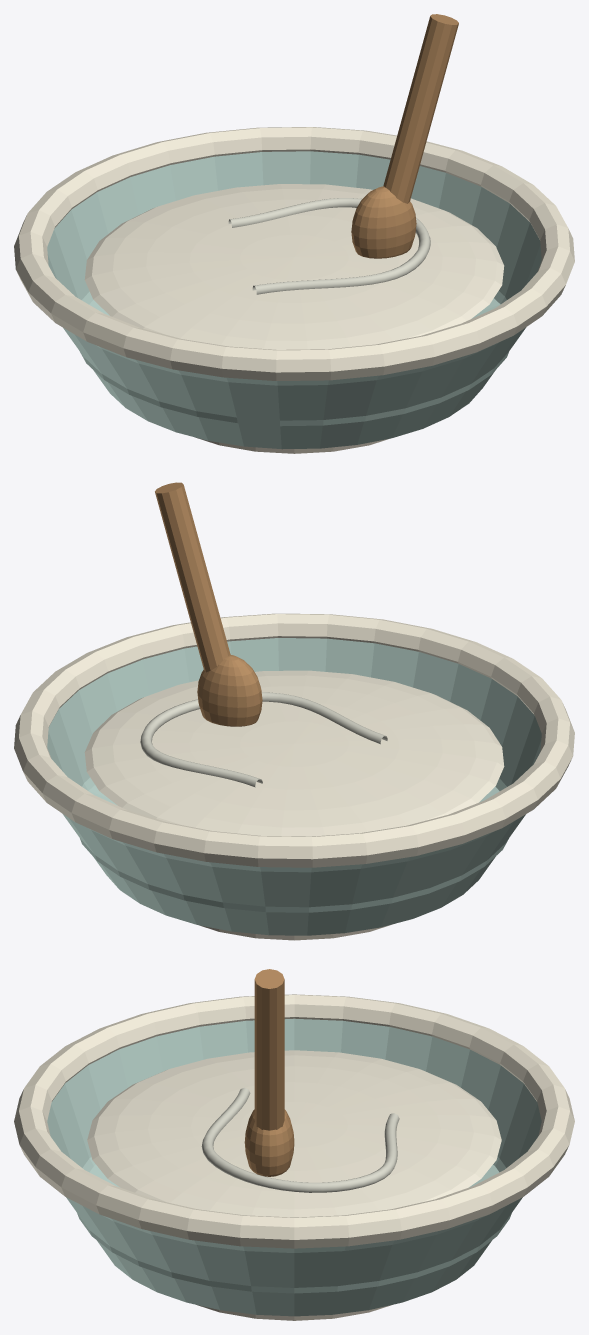
The model's file is rice_batter_bowl.glb.
3 renders of one model, top to bottom at view 1: azimuth 30°, elevation 25°; view 2: azimuth 150°, elevation 25°; view 3: azimuth 270°, elevation 25°, orthographic.
Parts seen in each view (by area): view 1: soft_rice_batter_surface, rice_batter_mix_bowl_hollow_profile, rice_batter_mix_bowl_rolled_lip, bamboo_whisk_handle, whisk_wire_head, batter_mixing_ripple, rice_batter_mix_bowl_foot_ring; view 2: soft_rice_batter_surface, rice_batter_mix_bowl_hollow_profile, rice_batter_mix_bowl_rolled_lip, bamboo_whisk_handle, whisk_wire_head, batter_mixing_ripple, rice_batter_mix_bowl_foot_ring; view 3: soft_rice_batter_surface, rice_batter_mix_bowl_hollow_profile, rice_batter_mix_bowl_rolled_lip, bamboo_whisk_handle, batter_mixing_ripple, whisk_wire_head, rice_batter_mix_bowl_foot_ring.
Boxes of the visible parts, x1=… form: soft_rice_batter_surface: x1=84, y1=184, x2=504, y2=349; rice_batter_mix_bowl_hollow_profile: x1=47, y1=151, x2=541, y2=449; rice_batter_mix_bowl_rolled_lip: x1=14, y1=127, x2=574, y2=380; bamboo_whisk_handle: x1=383, y1=14, x2=458, y2=203; whisk_wire_head: x1=351, y1=186, x2=416, y2=258; batter_mixing_ripple: x1=228, y1=198, x2=430, y2=294; rice_batter_mix_bowl_foot_ring: x1=196, y1=437, x2=388, y2=453; soft_rice_batter_surface: x1=84, y1=670, x2=504, y2=836; rice_batter_mix_bowl_hollow_profile: x1=47, y1=638, x2=541, y2=935; rice_batter_mix_bowl_rolled_lip: x1=14, y1=613, x2=574, y2=867; bamboo_whisk_handle: x1=155, y1=482, x2=230, y2=672; whisk_wire_head: x1=197, y1=654, x2=262, y2=726; batter_mixing_ripple: x1=140, y1=692, x2=387, y2=787; rice_batter_mix_bowl_foot_ring: x1=199, y1=924, x2=392, y2=940; soft_rice_batter_surface: x1=87, y1=1050, x2=501, y2=1217; rice_batter_mix_bowl_hollow_profile: x1=47, y1=1018, x2=541, y2=1316; rice_batter_mix_bowl_rolled_lip: x1=14, y1=994, x2=574, y2=1248; bamboo_whisk_handle: x1=254, y1=969, x2=284, y2=1130; batter_mixing_ripple: x1=201, y1=1087, x2=399, y2=1192; whisk_wire_head: x1=244, y1=1109, x2=294, y2=1176; rice_batter_mix_bowl_foot_ring: x1=197, y1=1305, x2=391, y2=1320.
Size of the model in its own units: 0.6765 by 0.4651 by 0.6765.
